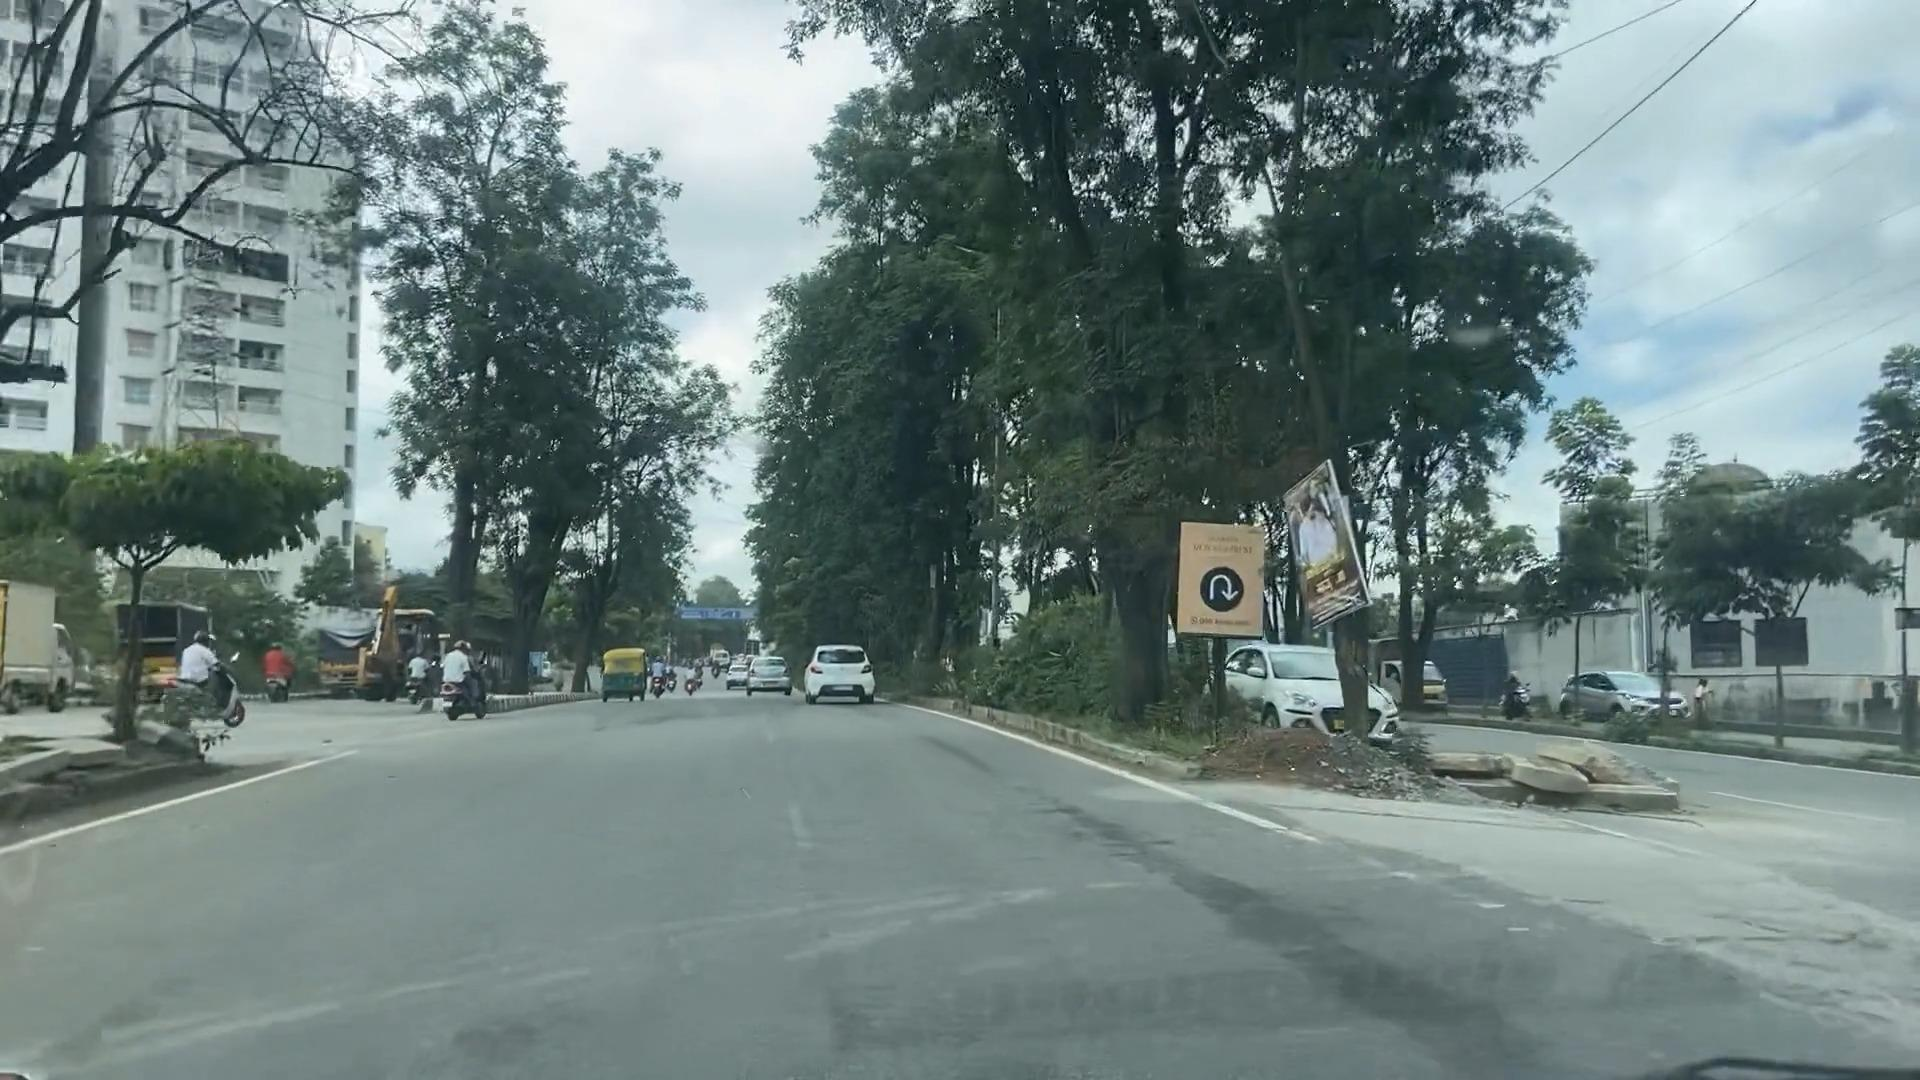LMV: (810, 640, 874, 705), (436, 644, 479, 719), (607, 650, 653, 698), (750, 651, 791, 698)
RoadDamages: (41, 963, 228, 1055), (1030, 967, 1221, 1051), (836, 994, 981, 1080), (1230, 864, 1337, 975), (458, 1015, 661, 1067), (1598, 949, 1725, 1011), (1062, 798, 1162, 869), (906, 736, 1021, 789)
